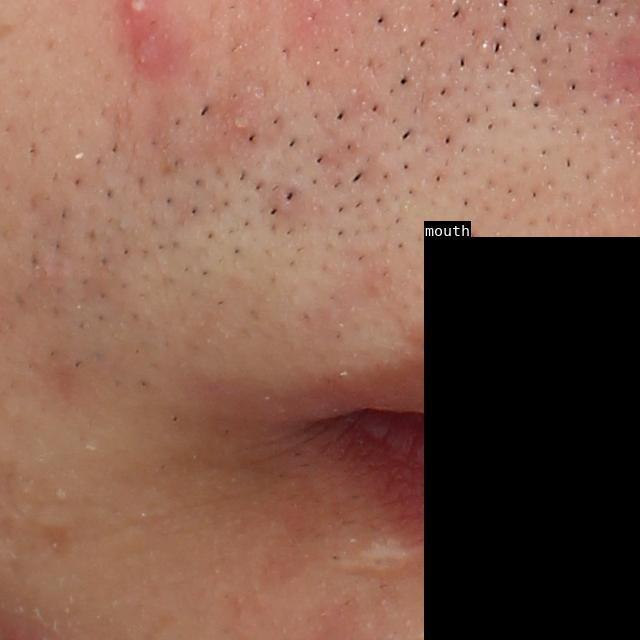hypertrophic_scar: (319, 536, 423, 576)
